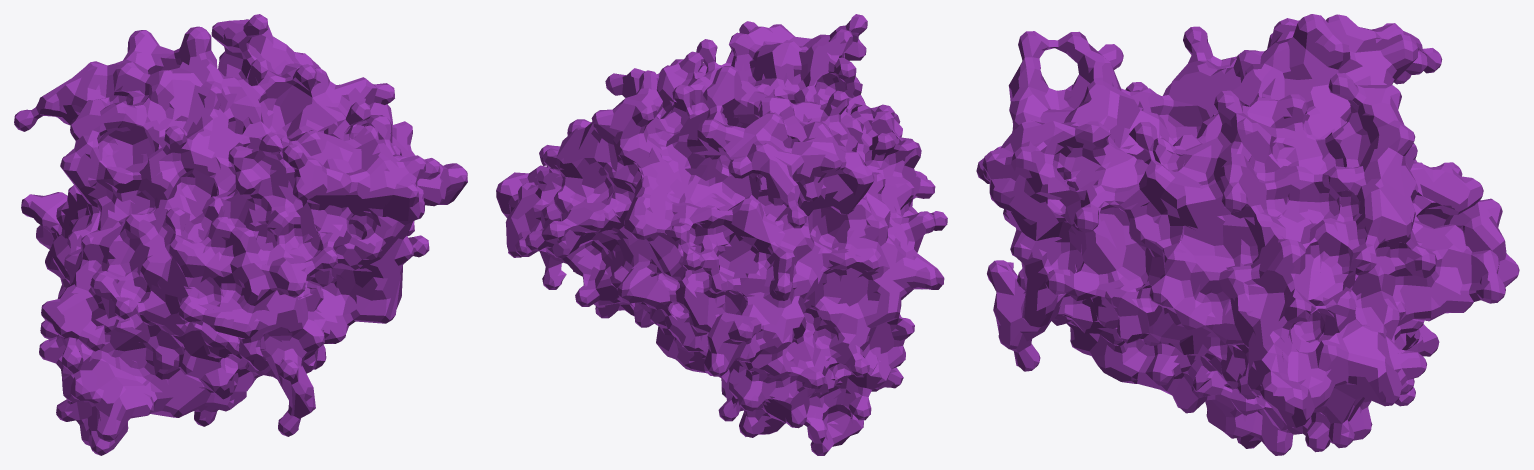
File: CuZnSOD_Unity.fbx
3 renders of one model, left to right at view 1: azimuth 30°, elevation 25°; view 2: azimuth 150°, elevation 25°; view 3: azimuth 270°, elevation 25°, orthographic. The views are drawn at different scales.
Parts seen in each view (by area): view 1: CuZnSOD; view 2: CuZnSOD; view 3: CuZnSOD.
Boxes of the visible parts, x1,y1,x2,y2 form: CuZnSOD: (14, 14, 467, 455); CuZnSOD: (496, 14, 947, 455); CuZnSOD: (976, 14, 1519, 455).
Bounding box in the file's own units: 13343 × 11158 × 11726.
